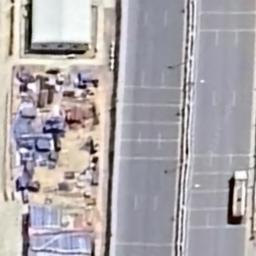truck: (226, 166, 248, 228)
